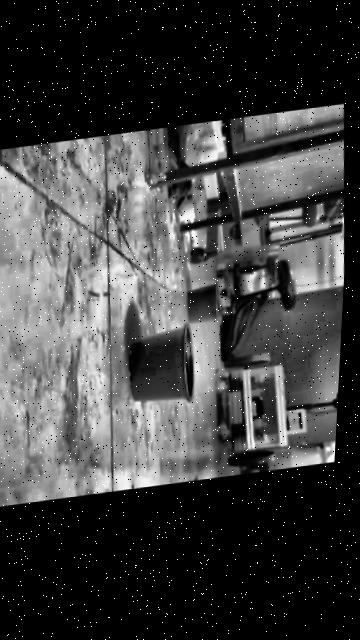pot: (125, 321, 198, 409), (186, 280, 222, 323)
